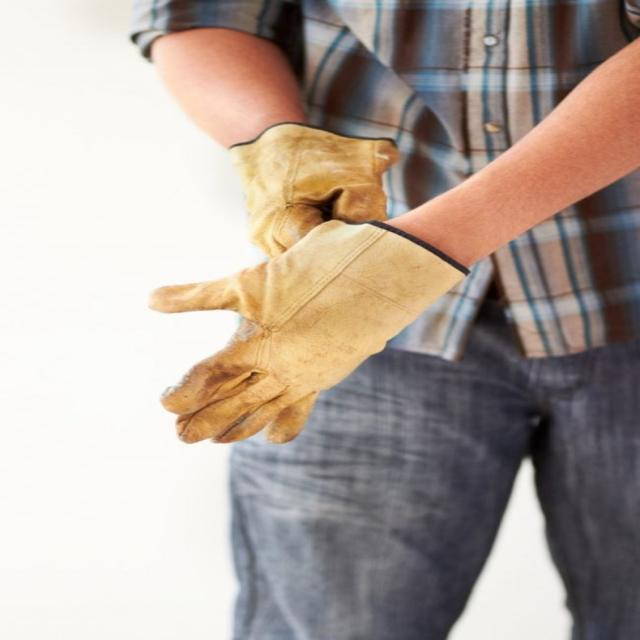gloves: (143, 215, 470, 445), (220, 122, 396, 257)
